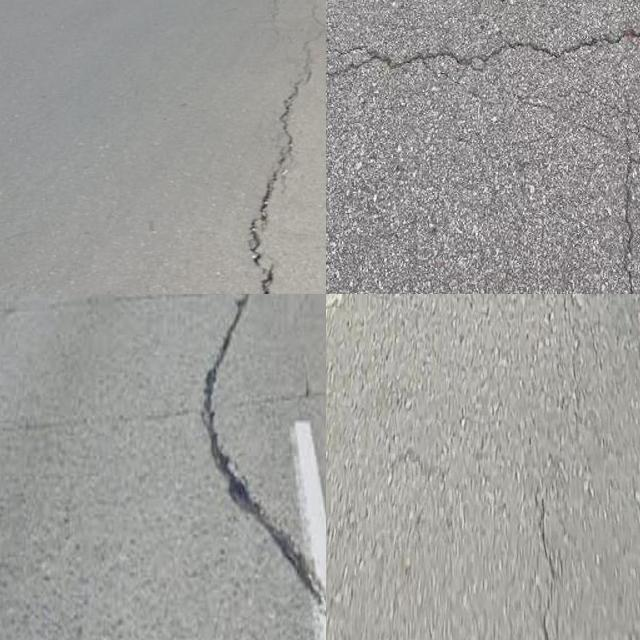Melintang: (326, 11, 640, 87)
Memanjang: (181, 294, 326, 640), (235, 25, 326, 294), (521, 489, 571, 640)
